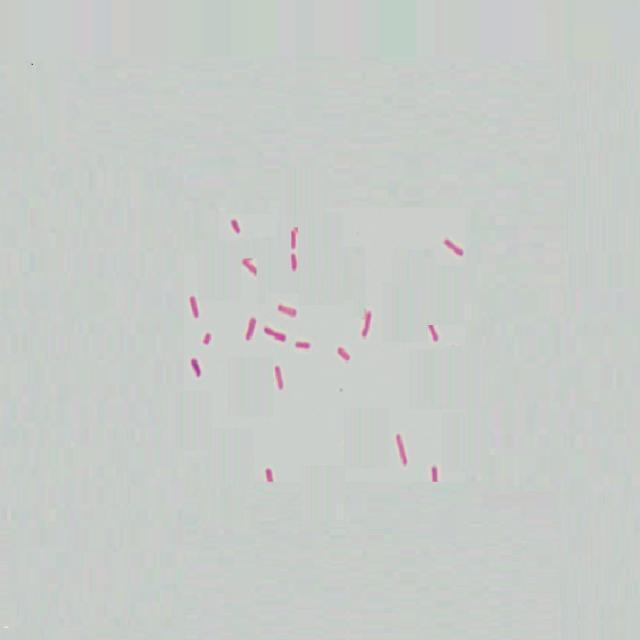E-coli: (391, 430, 413, 468), (441, 235, 467, 259), (262, 322, 288, 344), (272, 360, 287, 392), (186, 291, 202, 321), (361, 307, 374, 341), (274, 302, 299, 319), (243, 314, 257, 342), (189, 357, 203, 385), (242, 258, 261, 277), (228, 215, 244, 237), (288, 253, 303, 276), (427, 321, 441, 344), (334, 345, 352, 362), (288, 228, 300, 252), (429, 461, 440, 486), (294, 340, 313, 354), (262, 466, 276, 482), (202, 330, 212, 347)
